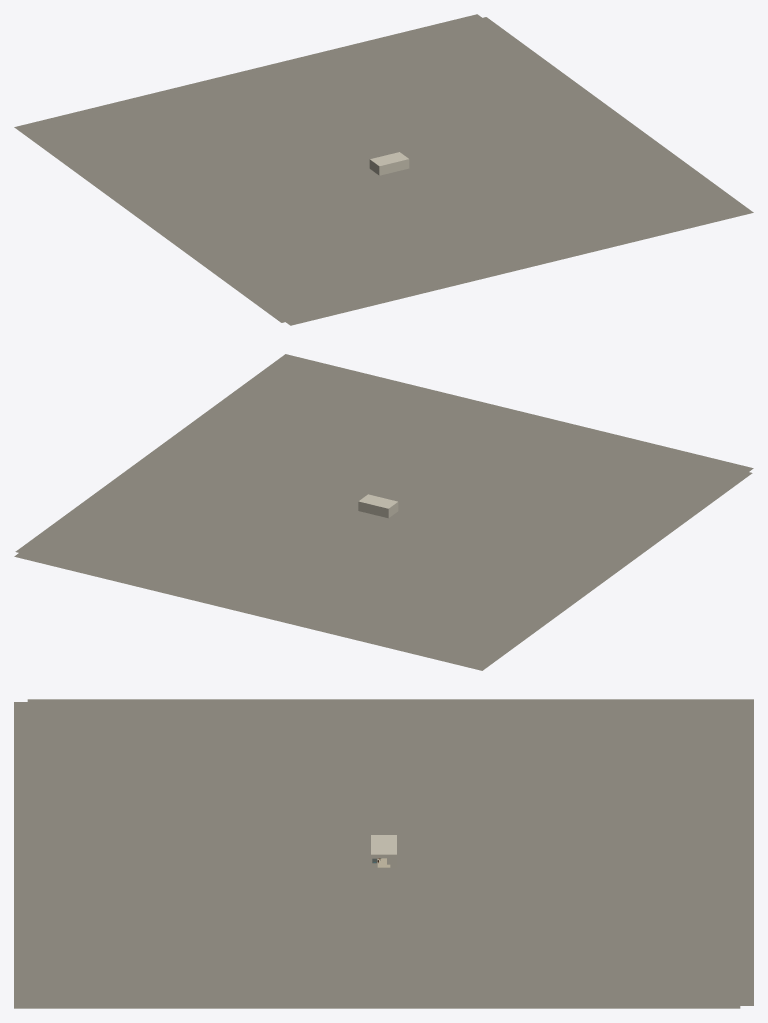
File: StarAtlasSpecialty_545.glb
The picture shows the model from 3 angles, top to bottom: view 1: azimuth 30°, elevation 25°; view 2: azimuth 150°, elevation 25°; view 3: azimuth 270°, elevation 25°; orthographic projection. The views are drawn at different scales.
Visible parts, largest first — view 1: SA545_ReservedRestSupport_01__Preview_Ground, SA545_ReservedRestSupport_02__Preview_Ground; view 2: SA545_ReservedRestSupport_01__Preview_Ground, SA545_ReservedRestSupport_02__Preview_Ground; view 3: SA545_ReservedRestSupport_01__Preview_Ground, SA545_ReservedRestSupport_02__Preview_Ground, SA545_Ceiling.
Part boxes in pixels (box(x1,y1,x2,y2)): SA545_ReservedRestSupport_01__Preview_Ground: box(23, 17, 753, 325); SA545_ReservedRestSupport_02__Preview_Ground: box(14, 14, 721, 322); SA545_ReservedRestSupport_01__Preview_Ground: box(15, 354, 753, 665); SA545_ReservedRestSupport_02__Preview_Ground: box(14, 359, 752, 670); SA545_ReservedRestSupport_01__Preview_Ground: box(14, 702, 740, 1008); SA545_ReservedRestSupport_02__Preview_Ground: box(27, 699, 753, 1005); SA545_Ceiling: box(371, 835, 396, 855).
Bounding box in the file's own units: 202 × 5.31 × 204.
81 materials, 49 textured.
